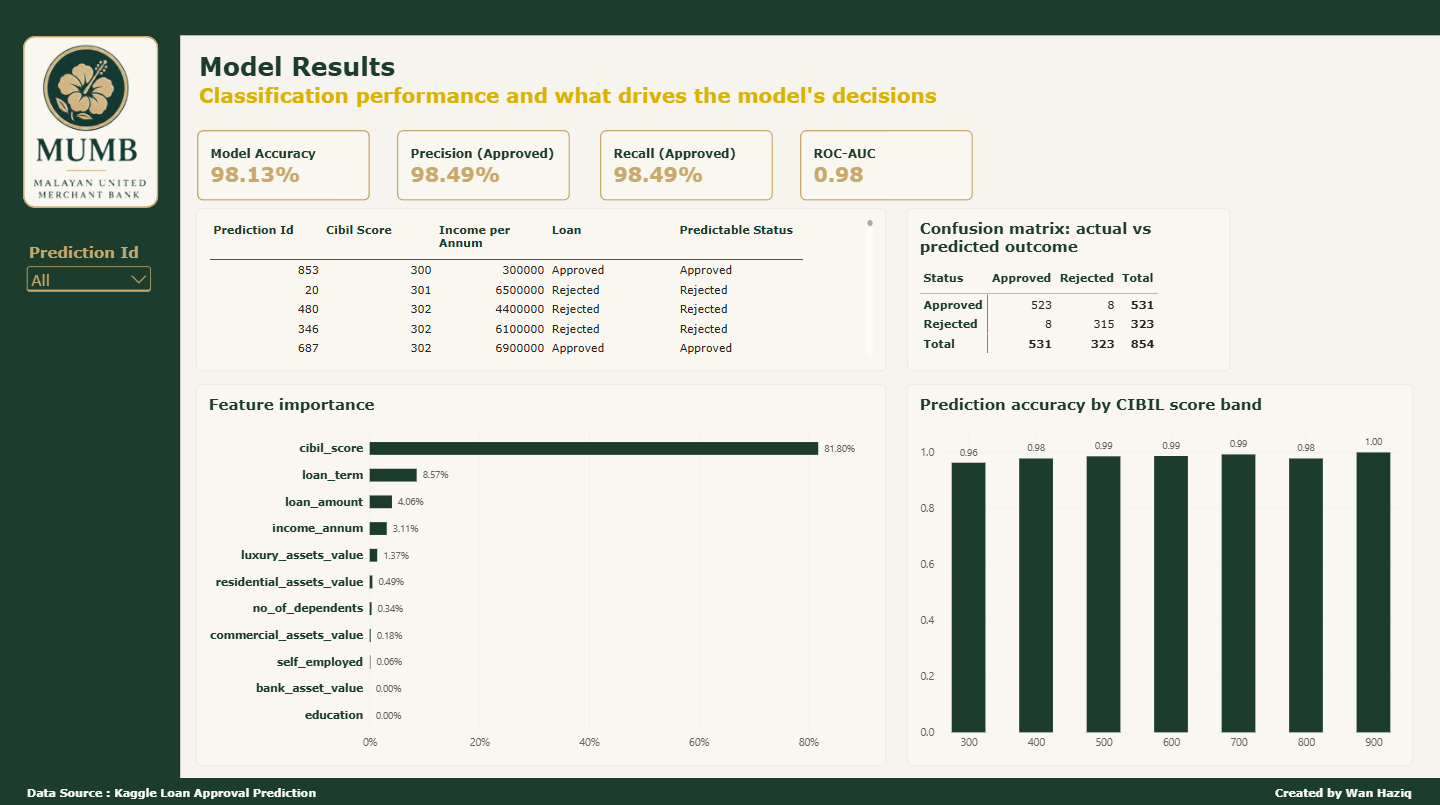

The page's visual inventory and layout, read from the dashboard file:
{"tool":"powerbi","page":{"name":"Model Results","canvas":[1920,1080],"ordinal":1},"visuals":[{"type":"shape","box":[0,1038.6,1920,41.4],"z":0},{"type":"textbox","title":"Data Source : Kaggle Loan Approval Prediction","box":[37.1,1050,505.7,20],"z":1000},{"type":"textbox","title":"Created by Wan Haziq","box":[1697.1,1050,200,20],"z":2000},{"type":"shape","box":[0,35.7,241.4,1014.3],"z":3000},{"type":"shape","box":[0,0,1920,51.4],"z":4000},{"type":"shape","box":[31.4,51.4,180,228.6],"z":5000},{"type":"image","box":[35,61,172,210],"z":6000},{"type":"textbox","title":"Model Results","box":[266.7,70,1013.3,80],"z":7000},{"type":"clusteredBarChart","title":"Feature importance","fields":{"Category":["loan_approval_db feature_importance.feature"],"Y":["Sum(loan_approval_db feature_importance.importance)"]},"box":[261.7,515,918.3,508.3],"z":8000},{"type":"pivotTable","title":"Confusion matrix: actual vs predicted outcome","fields":{"Rows":["loan_approval_db loan_predictions.actual_status_label"],"Columns":["loan_approval_db loan_predictions.predicted_status_label"],"Values":["CountNonNull(loan_approval_db loan_predictions.actual_status_label)"]},"box":[1208.3,280,430,216.7],"z":9000},{"type":"clusteredColumnChart","title":"Prediction accuracy by CIBIL score band","fields":{"Category":["loan_approval_db loan_predictions.cibil_score (bins)"],"Y":["loan_approval_db loan_predictions.Prediction Accuracy"]},"box":[1208.3,515,673.3,508.3],"z":10000},{"type":"cardVisual","fields":{"Data":["loan_approval_db loan_predictions.Model Accuracy"]},"box":[263.2,177.2,230,94.8],"z":11000},{"type":"cardVisual","fields":{"Data":["loan_approval_db loan_predictions.Precision (Approved)"]},"box":[530,176.7,230,94.8],"z":12000},{"type":"cardVisual","fields":{"Data":["loan_approval_db loan_predictions.Recall (Approved)"]},"box":[800,176.7,230,94.8],"z":13000},{"type":"cardVisual","fields":{"Data":["Sum(loan_approval_db model_metrics.value)"]},"box":[1065,176.7,230,94.8],"z":14000},{"type":"slicer","fields":{"Values":["loan_approval_db loan_predictions.prediction_id"]},"box":[31.7,326.7,175,98.3],"z":15000},{"type":"tableEx","fields":{"Values":["loan_approval_db loan_predictions.prediction_id","loan_approval_db loan_predictions.cibil_score","loan_approval_db loan_predictions.income_annum","loan_approval_db loan_predictions.actual_status_label","loan_approval_db loan_predictions.predicted_status_label"]},"box":[261.7,280,918.3,216.7],"z":16000}]}

Visuals, with their boxes in screenshot pixels (x1, y1, x2, y2), scaled from the page's 1920x1080 canvas onto the 1440x805 screenshot:
shape: bbox=[0, 774, 1439, 804]
"Data Source : Kaggle Loan Approval Prediction" textbox: bbox=[28, 783, 407, 798]
"Created by Wan Haziq" textbox: bbox=[1273, 783, 1423, 798]
shape: bbox=[0, 27, 181, 783]
shape: bbox=[0, 0, 1439, 38]
shape: bbox=[24, 38, 159, 209]
image: bbox=[26, 45, 155, 202]
"Model Results" textbox: bbox=[200, 52, 960, 112]
"Feature importance" clusteredBarChart: bbox=[196, 384, 885, 763]
"Confusion matrix: actual vs predicted outcome" pivotTable: bbox=[906, 209, 1229, 370]
"Prediction accuracy by CIBIL score band" clusteredColumnChart: bbox=[906, 384, 1411, 763]
cardVisual - loan_approval_db loan_predictions.Model Accuracy: bbox=[197, 132, 370, 203]
cardVisual - loan_approval_db loan_predictions.Precision (Approved): bbox=[398, 132, 570, 202]
cardVisual - loan_approval_db loan_predictions.Recall (Approved): bbox=[600, 132, 772, 202]
cardVisual - Sum(loan_approval_db model_metrics.value): bbox=[799, 132, 971, 202]
slicer - loan_approval_db loan_predictions.prediction_id: bbox=[24, 244, 155, 317]
tableEx - loan_approval_db loan_predictions.prediction_id x loan_approval_db loan_predictions.cibil_score: bbox=[196, 209, 885, 370]
